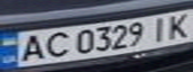0: (72, 27, 96, 55)
2: (109, 21, 133, 51)
3: (93, 24, 115, 53)
9: (127, 19, 151, 47)
A: (15, 33, 48, 64)
C: (39, 29, 72, 60)
I: (145, 15, 172, 43)
K: (160, 10, 193, 39)
